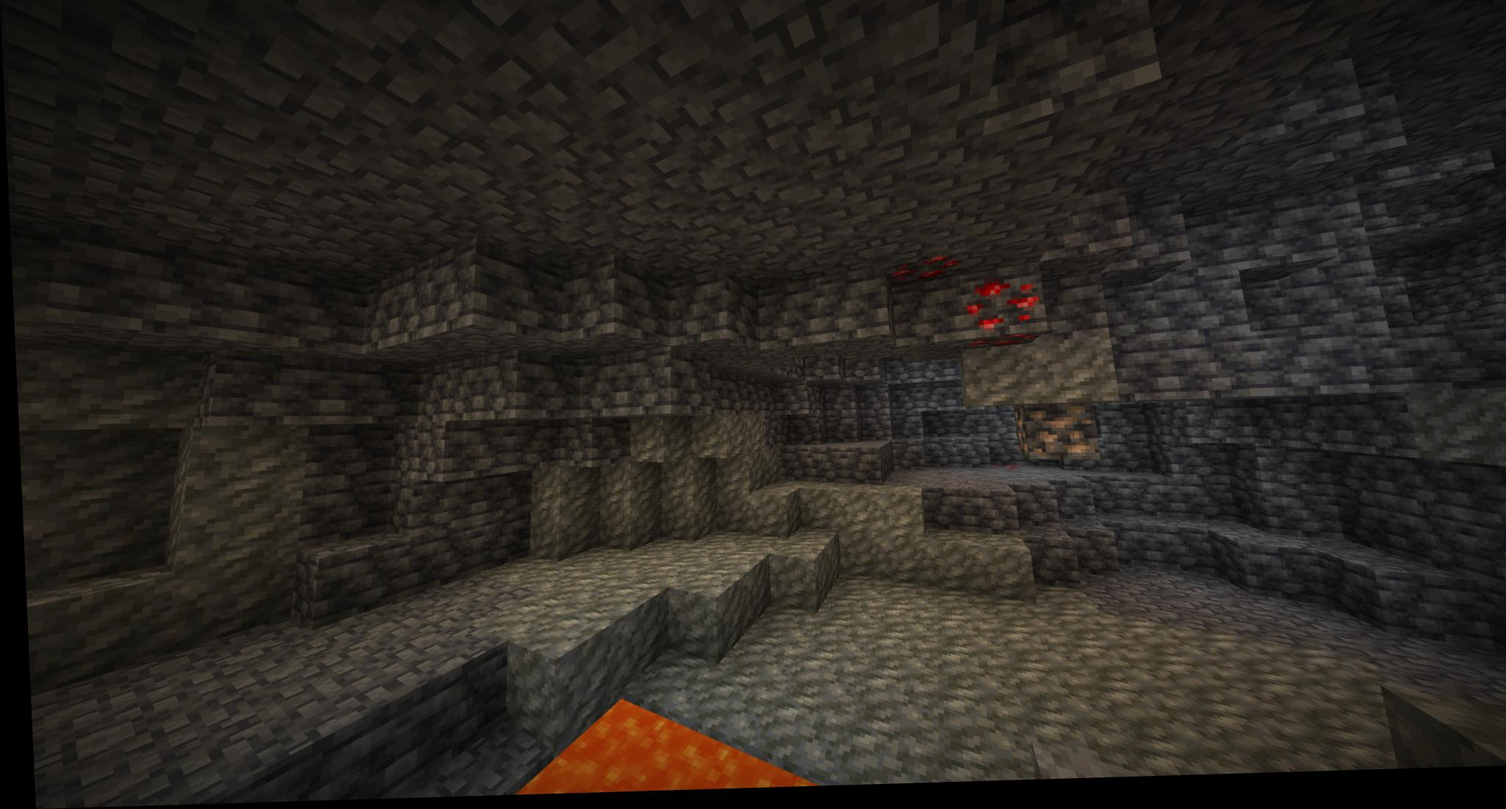iron ore: (1012, 409, 1096, 472)
redstone ore: (959, 281, 1034, 352), (882, 255, 956, 289)
